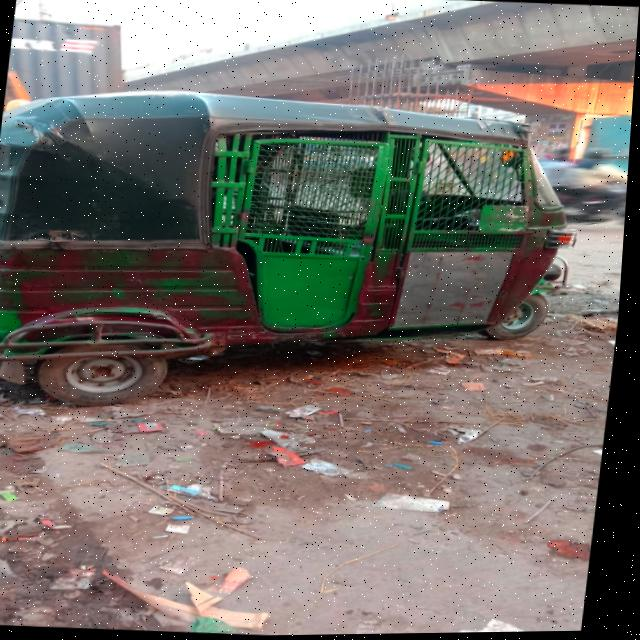cng: (0, 75, 559, 507)
